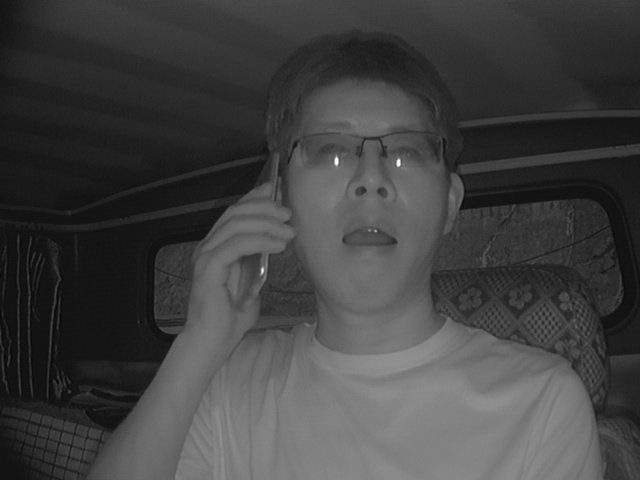hand: (188, 181, 293, 341)
